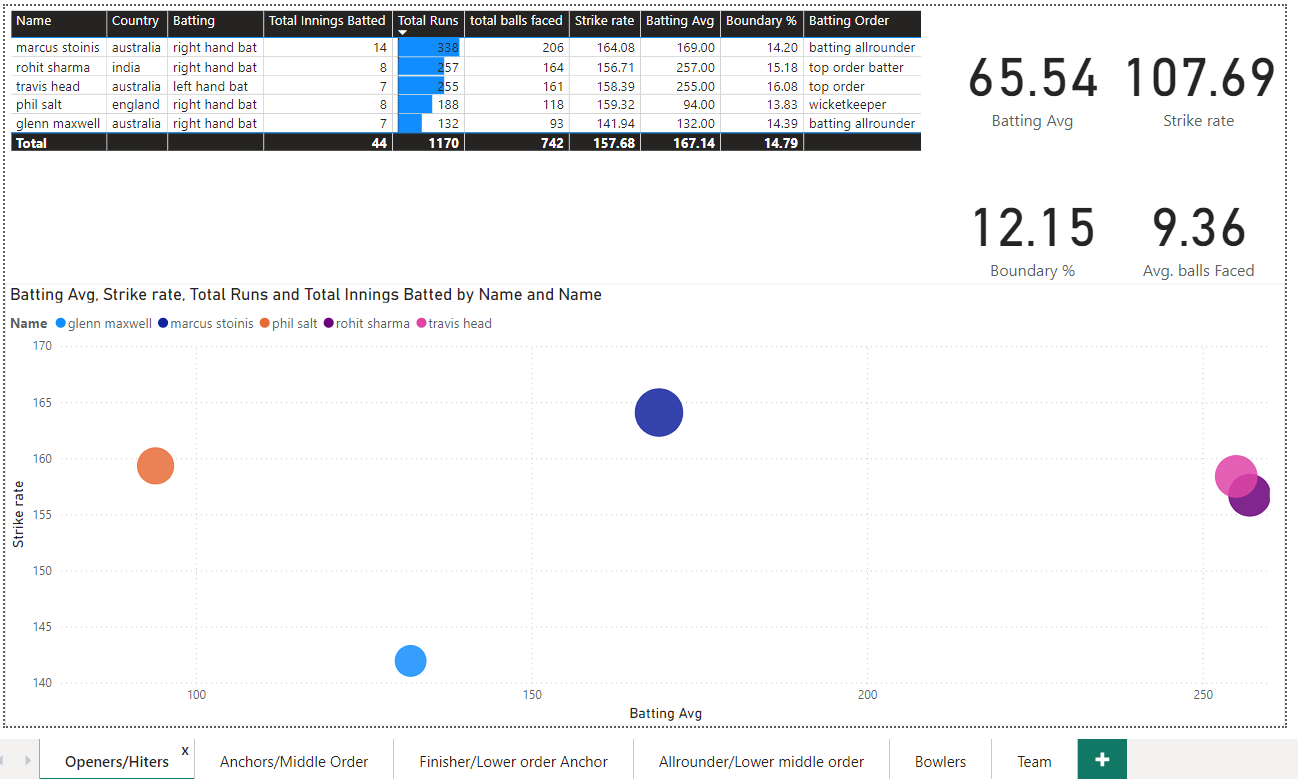

This screenshot's page, from the dashboard's own definition file:
{"tool":"powerbi","page":{"name":"Openers/Hiters","canvas":[1280,720],"ordinal":0},"visuals":[{"type":"tableEx","fields":{"Values":["players_summary.Name","players_summary.Country","players_summary.Batting","Key_Measures.Total Innings Batted","Key_Measures.Total Runs","Key_Measures.total balls faced","Key_Measures.Strike rate","Key_Measures.Batting Avg","Key_Measures.Boundary %","players_summary.Batting Order"]},"box":[0,0,941.4,277.1],"z":0},{"type":"card","fields":{"Values":["Key_Measures.Strike rate"]},"box":[1107.1,12.9,172.9,125.7],"z":1000},{"type":"card","fields":{"Values":["Key_Measures.Avg. balls Faced"]},"box":[1107.1,150,172.9,150],"z":2000},{"type":"card","fields":{"Values":["Key_Measures.Batting Avg"]},"box":[941.4,0,172.9,150],"z":3000},{"type":"card","fields":{"Values":["Key_Measures.Boundary %"]},"box":[941.4,150,172.9,150],"z":4000},{"type":"scatterChart","fields":{"Category":["players_summary.Name"],"X":["Key_Measures.Batting Avg"],"Y":["Key_Measures.Strike rate"],"Series":["players_summary.Name"],"Size":["Key_Measures.Total Runs"]},"box":[0,277.1,1280,442.9],"z":5000}]}

Visuals, with their boxes on the page's 1280x720 design canvas (x1, y1, x2, y2). These are canvas units, not pixel positions in the 1298x779 screenshot, which may show the page scaled, cropped or inside an application window:
tableEx - players_summary.Name x players_summary.Country: BBox(0, 0, 941, 277)
card - Key_Measures.Strike rate: BBox(1107, 13, 1280, 139)
card - Key_Measures.Avg. balls Faced: BBox(1107, 150, 1280, 300)
card - Key_Measures.Batting Avg: BBox(941, 0, 1114, 150)
card - Key_Measures.Boundary %: BBox(941, 150, 1114, 300)
scatterChart - players_summary.Name x Key_Measures.Batting Avg: BBox(0, 277, 1280, 720)
